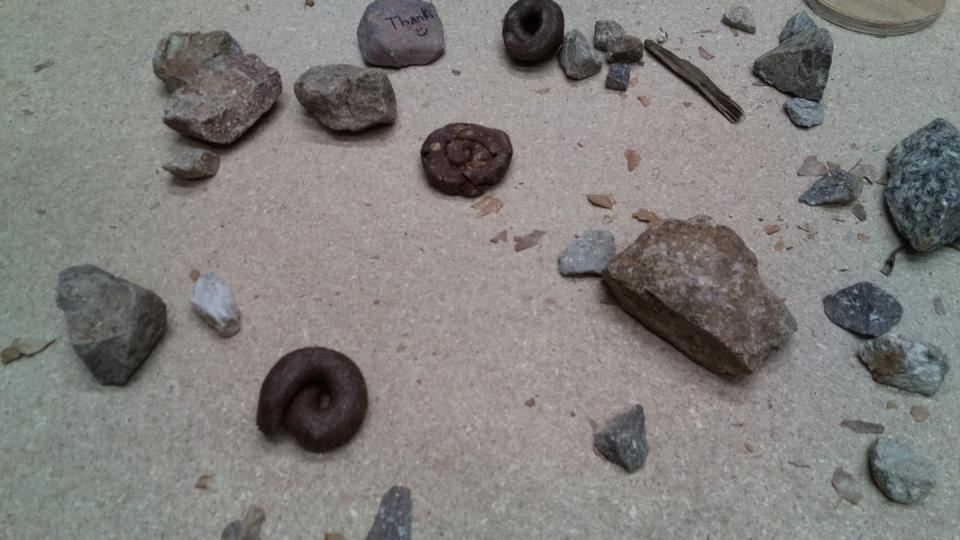poop: (254, 343, 372, 458), (419, 121, 515, 197), (499, 1, 566, 69)
